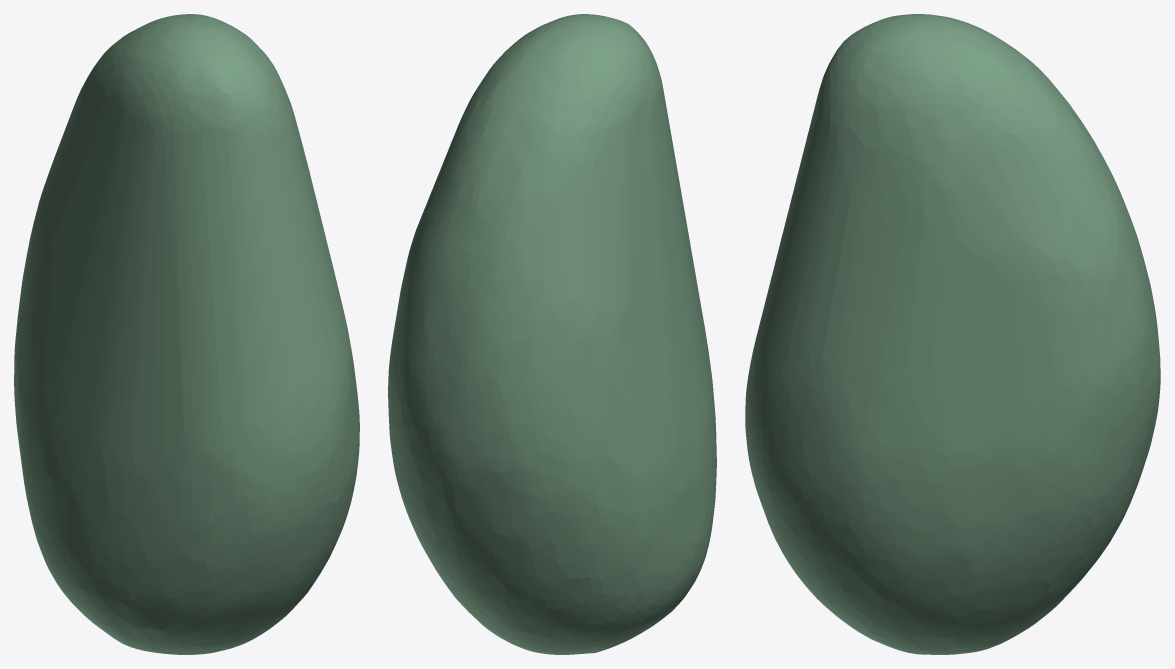
The model's file is coacd_collision.obj.
3 renders of one model, left to right at view 1: azimuth 30°, elevation 25°; view 2: azimuth 150°, elevation 25°; view 3: azimuth 270°, elevation 25°, orthographic. The views are drawn at different scales.
Parts seen in each view (by area): view 1: geometry_0; view 2: geometry_0; view 3: geometry_0.
Part boxes in pixels (<box>): geometry_0: <box>14,14,359,654</box>; geometry_0: <box>388,14,716,654</box>; geometry_0: <box>745,14,1160,654</box>.
Size of the model in its own units: 49.71 by 113 by 67.86.
